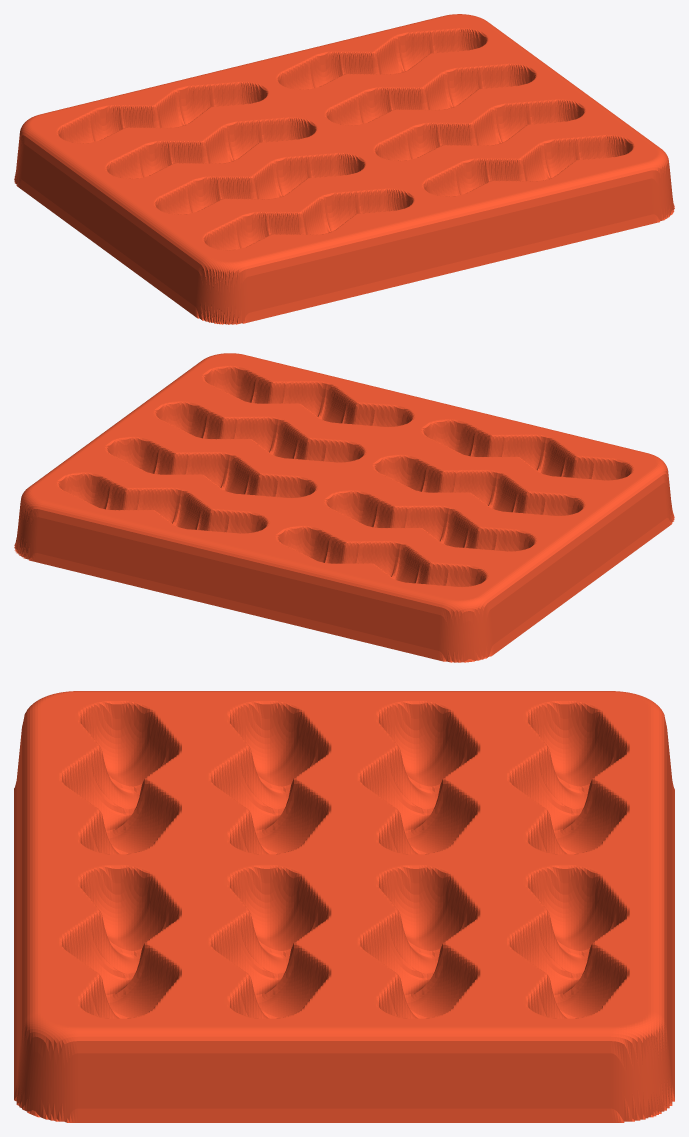
Rendered from mold.glb.
3 renders of one model, top to bottom at view 1: azimuth 30°, elevation 25°; view 2: azimuth 150°, elevation 25°; view 3: azimuth 270°, elevation 25°, orthographic. The views are drawn at different scales.
Visible parts, largest first — view 1: geometry_0; view 2: geometry_0; view 3: geometry_0.
Part boxes in pixels (x1,y1,x2,y2): geometry_0: (14,14,674,324); geometry_0: (14,353,674,662); geometry_0: (14,691,674,1122).
Size of the model in its own units: 0.1209 by 0.0135 by 0.0949.
